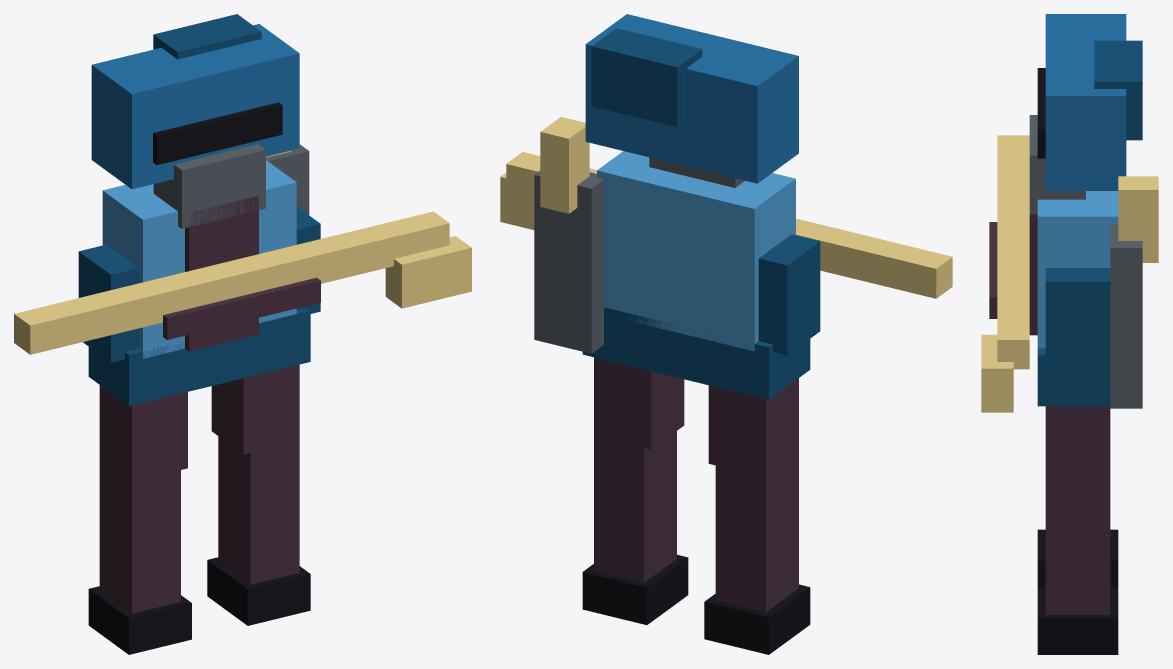
Rendered from archer.gltf.
The picture shows the model from 3 angles, left to right: view 1: azimuth 30°, elevation 25°; view 2: azimuth 150°, elevation 25°; view 3: azimuth 270°, elevation 25°; orthographic projection. The views are drawn at different scales.
Visible parts, largest first — view 1: 17_scaled_hood, 14_horn_prod_level, 02_left_shin, 03_right_shin, 10_hunter_s_coat, 06_scale_skirt, 05_right_thigh, 16_face, 04_left_thigh, 13_scale_placket, 11_loaded_bolt_fang, 01_right_boot (+7 smaller); view 2: 10_hunter_s_coat, 17_scaled_hood, 02_left_shin, 03_right_shin, 07_quiver, 06_scale_skirt, 18_hood_point, 14_horn_prod_level, 04_left_thigh, 08_left_arm, 05_right_thigh, 00_left_boot (+4 smaller); view 3: 17_scaled_hood, 03_right_shin, 14_horn_prod_level, 09_right_arm, 10_hunter_s_coat, 07_quiver, 05_right_thigh, 01_right_boot, 18_hood_point, 15_bolt_fletching, 06_scale_skirt, 11_loaded_bolt_fang (+5 smaller).
Part boxes in pixels (x1,y1,x2,y2): 17_scaled_hood: (91, 24, 299, 189); 14_horn_prod_level: (14, 211, 449, 354); 02_left_shin: (99, 451, 180, 613); 03_right_shin: (218, 434, 299, 584); 10_hunter_s_coat: (102, 160, 296, 358); 06_scale_skirt: (88, 307, 310, 405); 05_right_thigh: (211, 364, 299, 454); 16_face: (153, 144, 265, 228); 04_left_thigh: (99, 385, 187, 474); 13_scale_placket: (185, 195, 258, 351); 11_loaded_bolt_fang: (385, 236, 471, 308); 01_right_boot: (207, 557, 310, 625); 10_hunter_s_coat: (597, 151, 795, 351); 17_scaled_hood: (585, 14, 798, 183); 02_left_shin: (715, 446, 798, 612); 03_right_shin: (594, 428, 676, 582); 07_quiver: (534, 171, 603, 353); 06_scale_skirt: (582, 307, 810, 399); 18_hood_point: (591, 28, 702, 127); 14_horn_prod_level: (506, 152, 952, 298); 04_left_thigh: (708, 378, 798, 477); 08_left_arm: (758, 234, 820, 355); 05_right_thigh: (594, 357, 684, 449); 00_left_boot: (704, 584, 810, 654); 17_scaled_hood: (1045, 14, 1126, 190); 03_right_shin: (1045, 476, 1110, 614); 14_horn_prod_level: (997, 135, 1029, 369); 09_right_arm: (1045, 268, 1110, 369); 10_hunter_s_coat: (1037, 191, 1118, 348); 07_quiver: (1110, 224, 1142, 408); 05_right_thigh: (1045, 406, 1110, 482); 01_right_boot: (1037, 587, 1118, 654); 18_hood_point: (1094, 40, 1142, 140); 15_bolt_fletching: (1118, 176, 1158, 262); 06_scale_skirt: (1037, 348, 1110, 406); 11_loaded_bolt_fang: (981, 334, 1013, 412).
Size of the model in its own units: 0.9688 by 1.2 by 0.3438.
